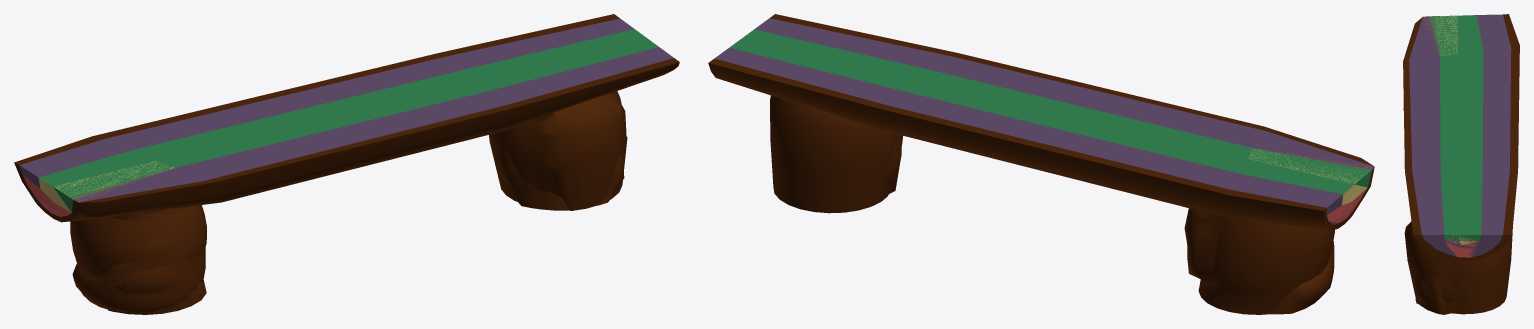
File: Enviro_LogBenches.fbx
3 views of the same model, side by side, from view 1: azimuth 30°, elevation 25°; view 2: azimuth 150°, elevation 25°; view 3: azimuth 270°, elevation 25° (orthographic). The views are drawn at different scales.
Visible parts, largest first — view 1: LogBench_BenchTop1, LogBench_Leg4, LogBench_Leg1, LogBench_Leg2, LogBench_Leg3, LogBench_BenchTop3; view 2: LogBench_BenchTop1, LogBench_Leg4, LogBench_Leg1, LogBench_Leg2, LogBench_BenchTop3, LogBench_Leg3; view 3: LogBench_BenchTop1, LogBench_Leg4, LogBench_BenchTop3, LogBench_Leg3.
Part boxes in pixels (x1,y1,x2,y2): LogBench_BenchTop1: (14,14,679,222); LogBench_Leg4: (489,91,627,210); LogBench_Leg1: (70,205,206,314); LogBench_Leg2: (72,206,205,312); LogBench_Leg3: (496,113,624,210); LogBench_BenchTop3: (23,161,174,216); LogBench_BenchTop1: (708,14,1374,230); LogBench_Leg4: (770,95,902,213); LogBench_Leg1: (1184,208,1334,314); LogBench_Leg2: (1270,241,1334,314); LogBench_BenchTop3: (1248,149,1372,222); LogBench_Leg3: (882,135,901,193); LogBench_BenchTop1: (1403,14,1519,261); LogBench_Leg4: (1404,221,1512,314); LogBench_BenchTop3: (1423,16,1478,257); LogBench_Leg3: (1415,255,1462,304).
Bounding box in the file's own units: 2.89 × 0.5739 × 0.6468.
